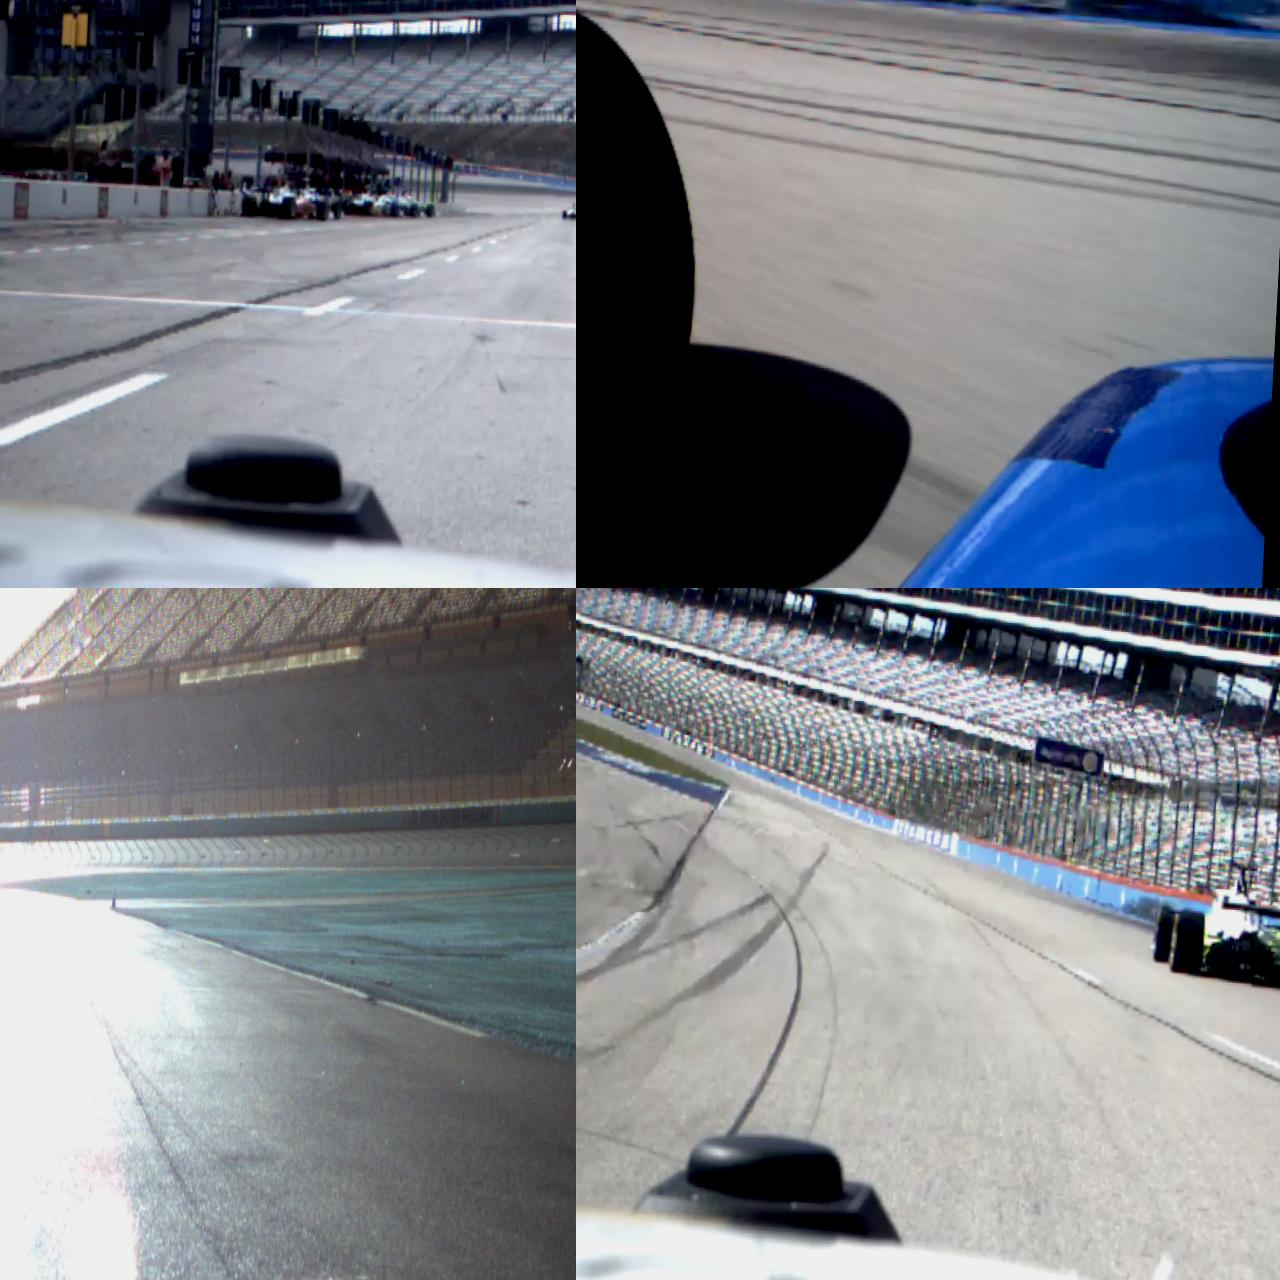AV: (1148, 856, 1280, 993), (240, 178, 329, 220), (561, 201, 576, 220)
Wheel: (576, 0, 707, 566), (1171, 910, 1206, 976), (1153, 904, 1176, 962), (281, 196, 296, 218), (242, 194, 256, 216), (317, 200, 328, 220), (332, 201, 341, 219), (390, 202, 400, 216), (362, 200, 372, 214), (410, 202, 418, 218), (426, 202, 435, 216), (562, 210, 566, 219)
